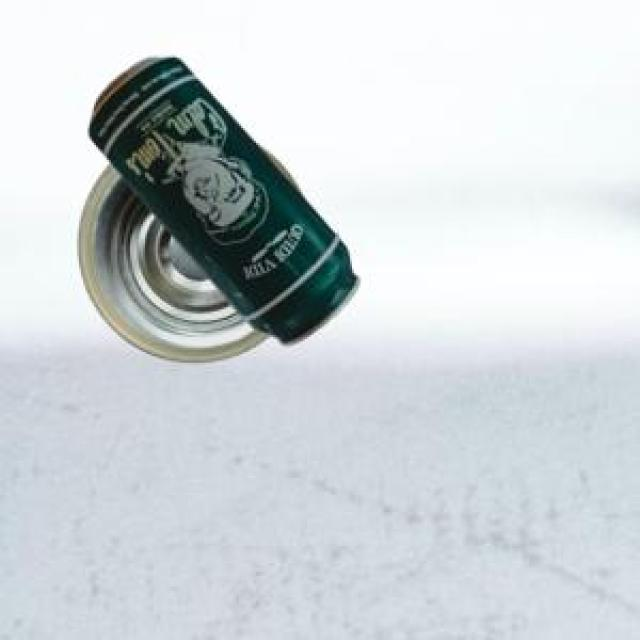logam: (86, 54, 355, 342), (76, 142, 299, 359)
